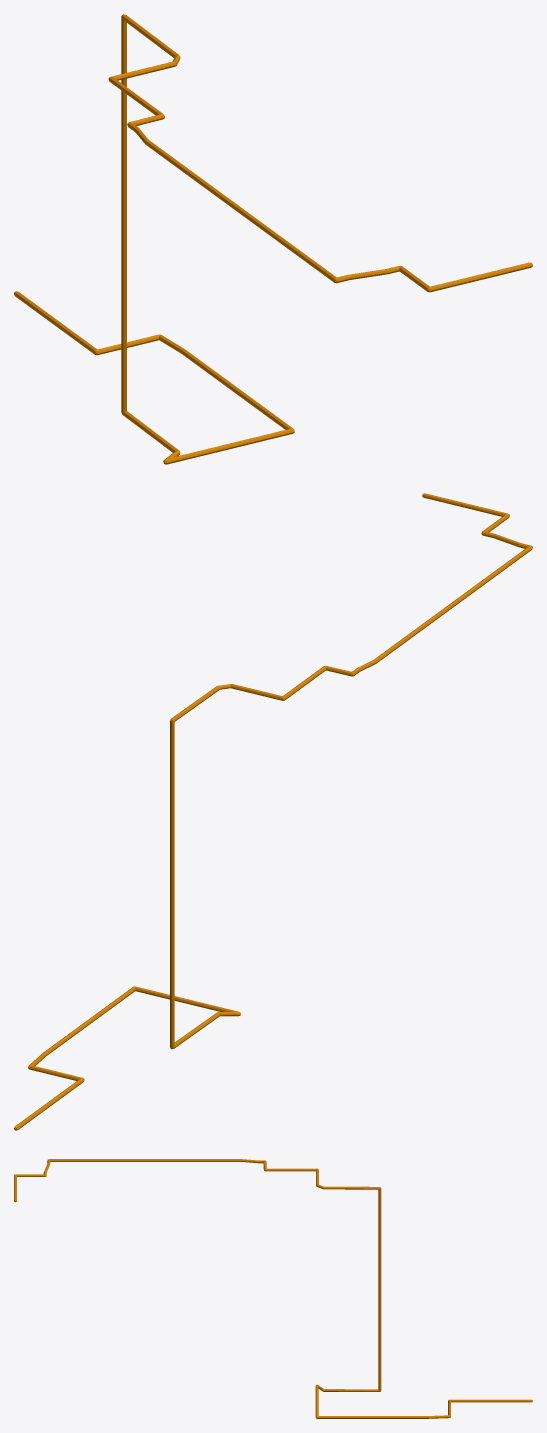
3 renders of one model, top to bottom at view 1: azimuth 30°, elevation 25°; view 2: azimuth 150°, elevation 25°; view 3: azimuth 270°, elevation 25°, orthographic. The views are drawn at different scales.
Size of the model in its own units: 885 by 1520 by 3485.
